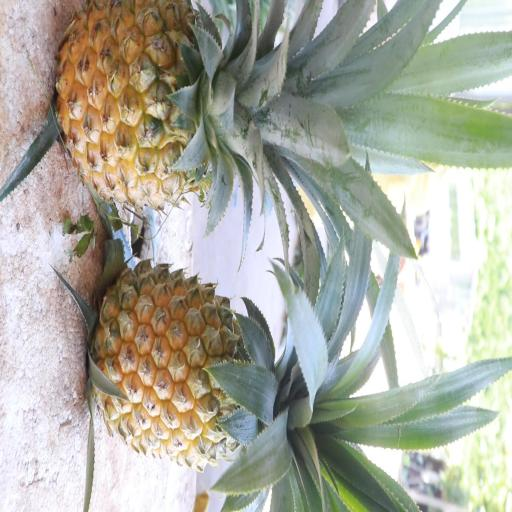Pineapple - v8 v1: (86, 254, 336, 477), (49, 0, 298, 219)
